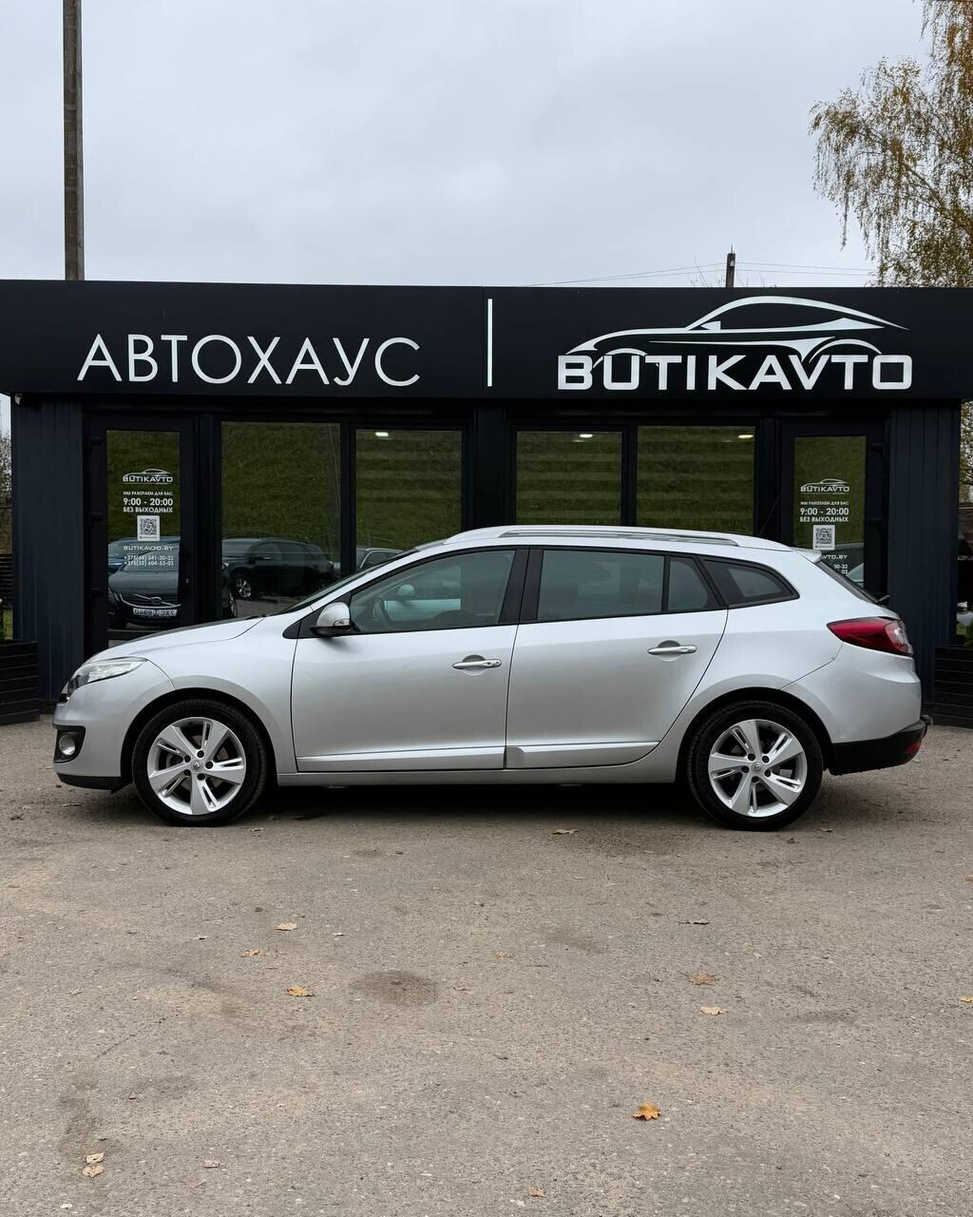Megane_2012-2014: (49, 515, 926, 834)
